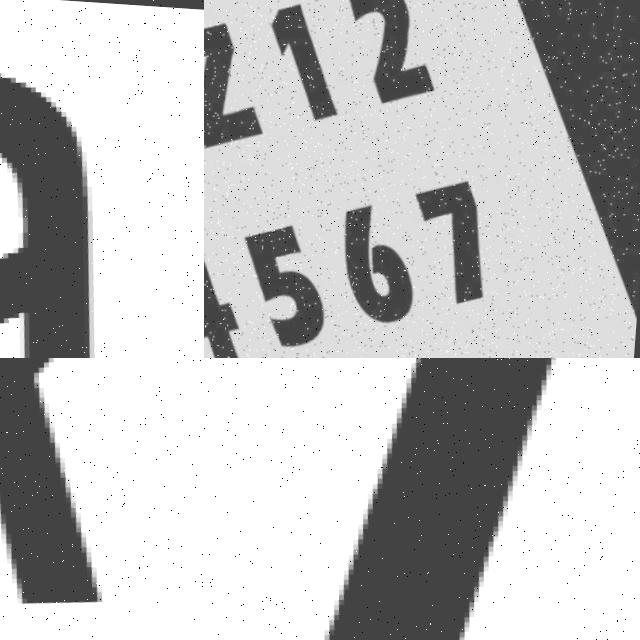1: (245, 0, 357, 135)
2: (321, 0, 457, 121)
4: (204, 213, 274, 358)
5: (222, 191, 359, 358)
6: (307, 165, 446, 343)
7: (399, 147, 535, 320)
A: (0, 21, 164, 358)
I: (291, 358, 640, 640)
K: (0, 358, 193, 626)
